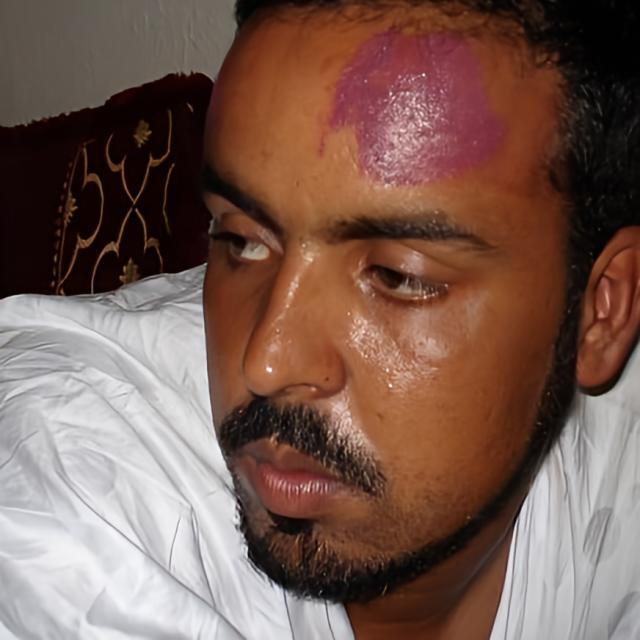sad: (193, 5, 572, 605)
